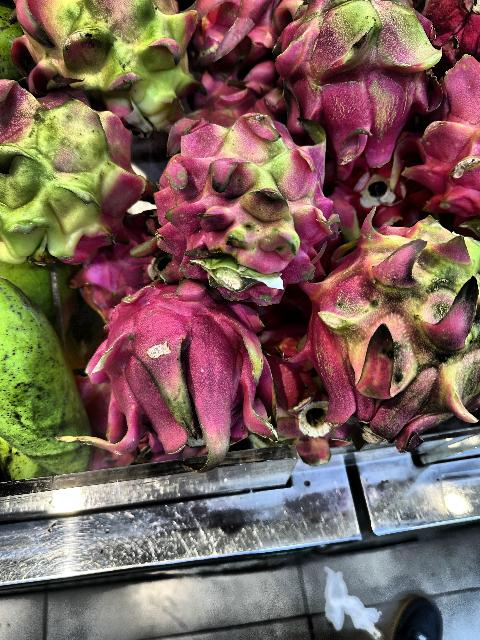buah-naga-belum-matang: (153, 104, 341, 306), (316, 213, 480, 443), (268, 0, 446, 164), (0, 75, 146, 272), (4, 0, 207, 132)
buah-naga-matang: (88, 292, 288, 463), (422, 58, 480, 220)
